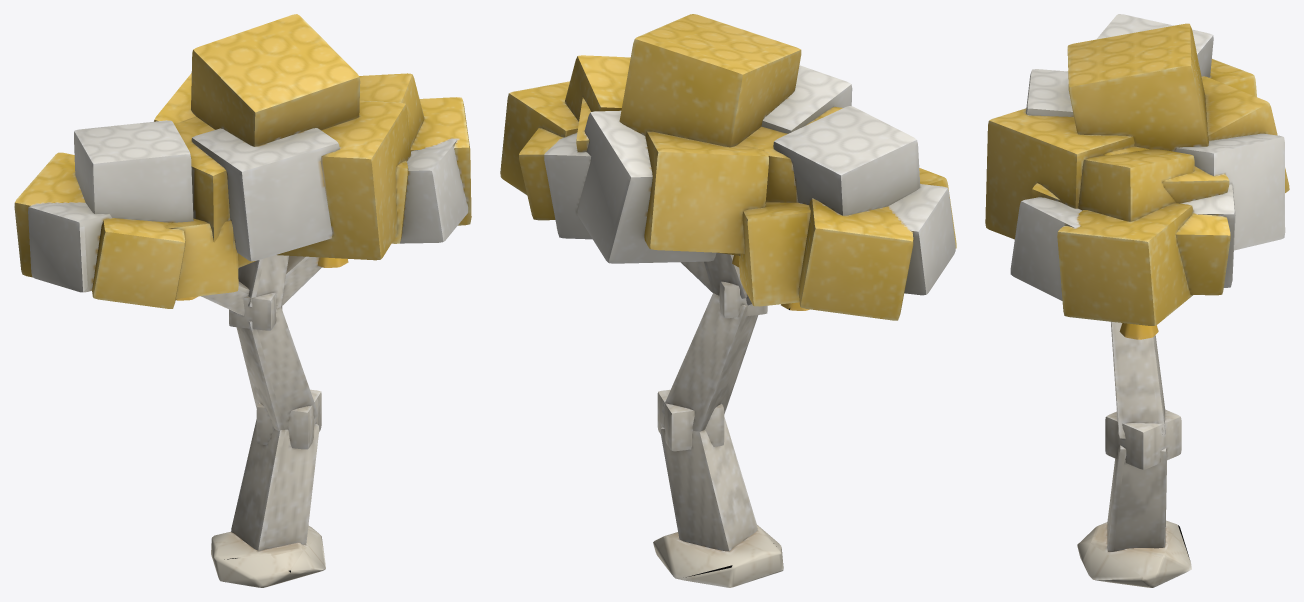
File: Divin_ArbreDore.fbx
3 renders of one model, left to right at view 1: azimuth 30°, elevation 25°; view 2: azimuth 150°, elevation 25°; view 3: azimuth 270°, elevation 25°, orthographic. The views are drawn at different scales.
Parts seen in each view (by area): view 1: Divin_ArbreDore; view 2: Divin_ArbreDore; view 3: Divin_ArbreDore.
Boxes of the visible parts, x1,y1,x2,y2 form: Divin_ArbreDore: (14, 14, 471, 587); Divin_ArbreDore: (500, 14, 956, 587); Divin_ArbreDore: (985, 14, 1289, 587).
Bounding box in the file's own units: 1354 × 1569 × 825.
Materials: 1 (1 with a texture image).
